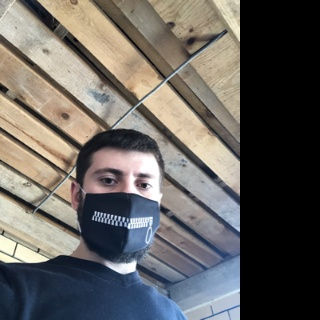with_mask: (81, 160, 160, 264)
